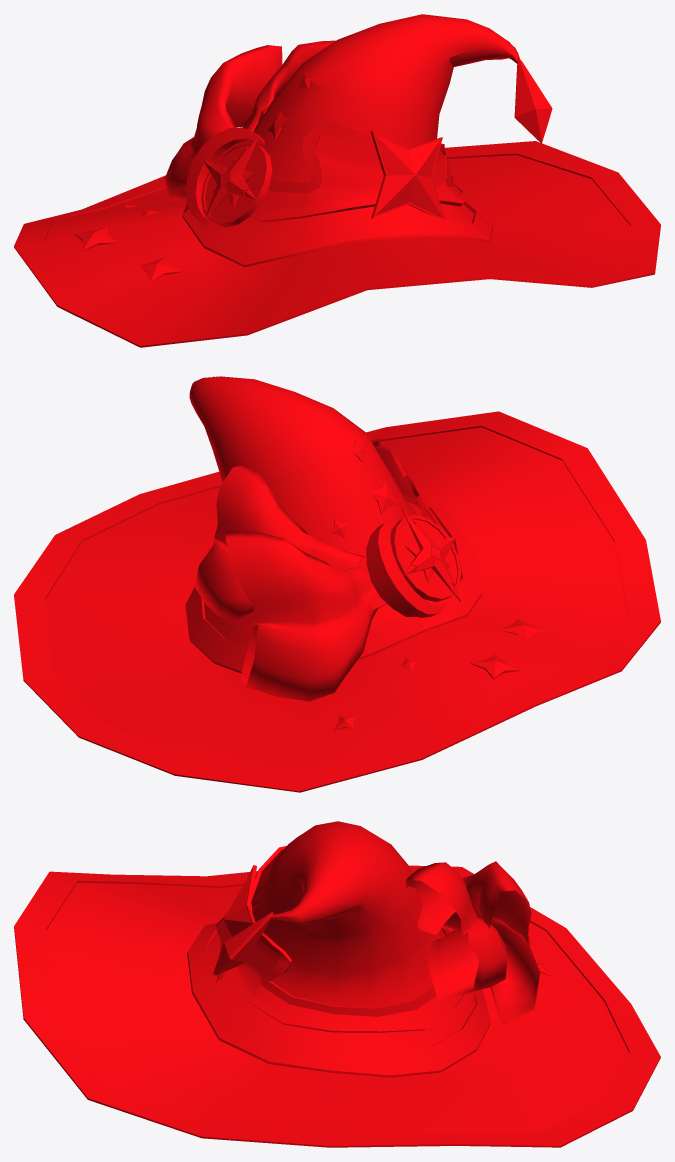
Rendered from mona.glb.
The picture shows the model from 3 angles, top to bottom: view 1: azimuth 30°, elevation 25°; view 2: azimuth 150°, elevation 25°; view 3: azimuth 270°, elevation 25°; orthographic projection.
Parts seen in each view (by area): view 1: polySurface8, TH_GOOOD_ONE, pPlane4, polySurface10, pCylinder2, sweep1, pCube1, pPlane3, polySurface1, polySurface15, polySurface9; view 2: polySurface8, pPlane4, pPlane3, sweep1, pCylinder2, TH_GOOOD_ONE, polySurface1; view 3: polySurface8, TH_GOOOD_ONE, pPlane3, pPlane4, polySurface10, pCube1.
Part boxes in pixels (left/top/right/bottom): polySurface8: left=14, top=14, right=660, bottom=347; TH_GOOOD_ONE: left=250, top=123, right=467, bottom=222; pPlane4: left=165, top=45, right=282, bottom=200; polySurface10: left=370, top=131, right=445, bottom=219; pCylinder2: left=201, top=141, right=272, bottom=227; sweep1: left=185, top=127, right=265, bottom=225; pCube1: left=514, top=57, right=552, bottom=143; pPlane3: left=243, top=40, right=335, bottom=131; polySurface1: left=201, top=134, right=259, bottom=227; polySurface15: left=74, top=226, right=116, bottom=250; polySurface9: left=139, top=256, right=182, bottom=282; polySurface8: left=14, top=376, right=660, bottom=792; pPlane4: left=226, top=531, right=378, bottom=701; pPlane3: left=195, top=464, right=363, bottom=618; sweep1: left=366, top=519, right=446, bottom=617; pCylinder2: left=390, top=514, right=461, bottom=602; TH_GOOOD_ONE: left=220, top=445, right=444, bottom=633; polySurface1: left=401, top=508, right=461, bottom=601; polySurface8: left=14, top=821, right=660, bottom=1147; TH_GOOOD_ONE: left=230, top=846, right=476, bottom=1032; pPlane3: left=406, top=862, right=506, bottom=1000; pPlane4: left=441, top=861, right=540, bottom=1025; polySurface10: left=215, top=865, right=256, bottom=981; pCube1: left=213, top=912, right=273, bottom=975.
Bounding box in the file's own units: 1.32 × 0.5695 × 1.3.
